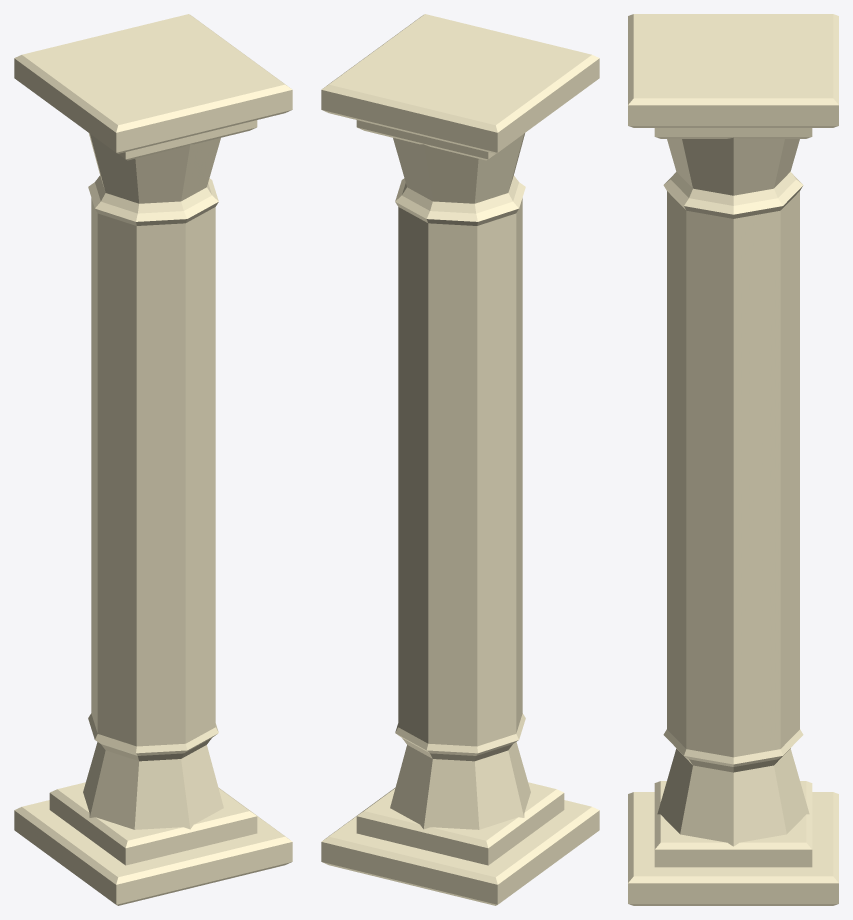
Rendered from Pillar.glb.
3 views of the same model, side by side, from view 1: azimuth 30°, elevation 25°; view 2: azimuth 150°, elevation 25°; view 3: azimuth 270°, elevation 25° (orthographic). The views are drawn at different scales.
Parts seen in each view (by area): view 1: Pillar1; view 2: Pillar1; view 3: Pillar1.
Part boxes in pixels (x1=…): Pillar1: x1=14, y1=14, x2=292, y2=905; Pillar1: x1=321, y1=14, x2=599, y2=905; Pillar1: x1=628, y1=14, x2=838, y2=905.
Bounding box in the file's own units: 1.05 × 4.45 × 1.05.
